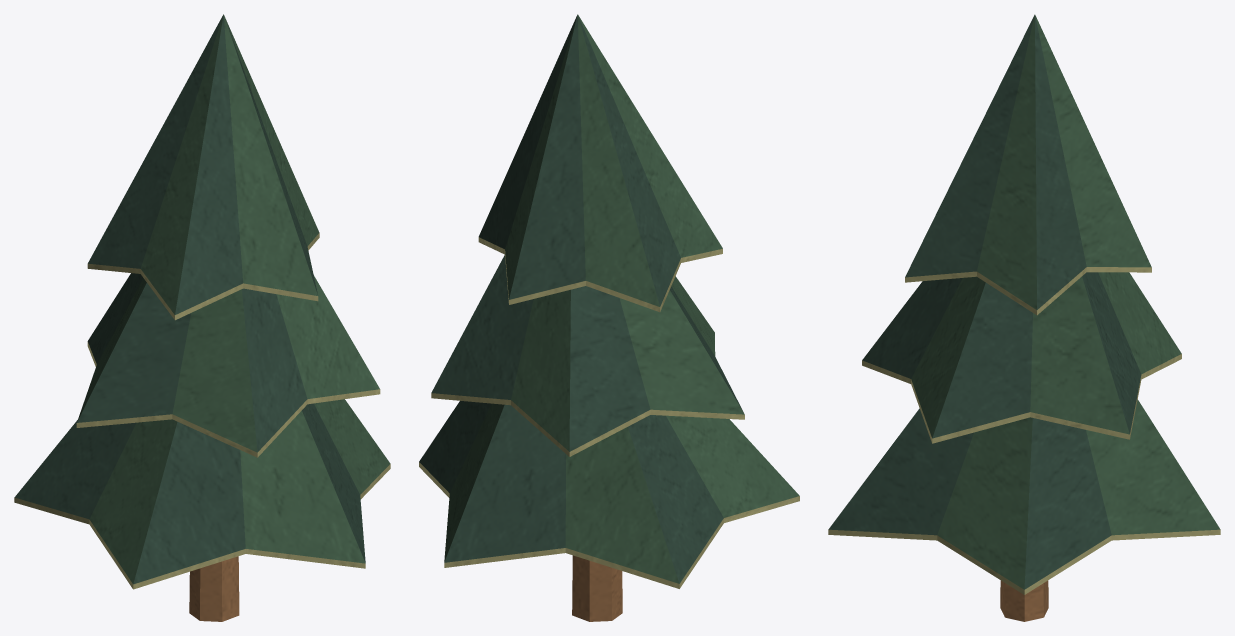
File: pino-alto.glb
3 views of the same model, side by side, from view 1: azimuth 30°, elevation 25°; view 2: azimuth 150°, elevation 25°; view 3: azimuth 270°, elevation 25° (orthographic). The views are drawn at different scales.
Parts seen in each view (by area): view 1: pino-alto; view 2: pino-alto; view 3: pino-alto.
Part boxes in pixels (left/top/right/bottom): pino-alto: left=14, top=14, right=390, bottom=621; pino-alto: left=419, top=14, right=799, bottom=621; pino-alto: left=828, top=14, right=1220, bottom=621.
Size of the model in its own units: 4.67 by 8.3 by 4.89.
1 material, 1 textured.
